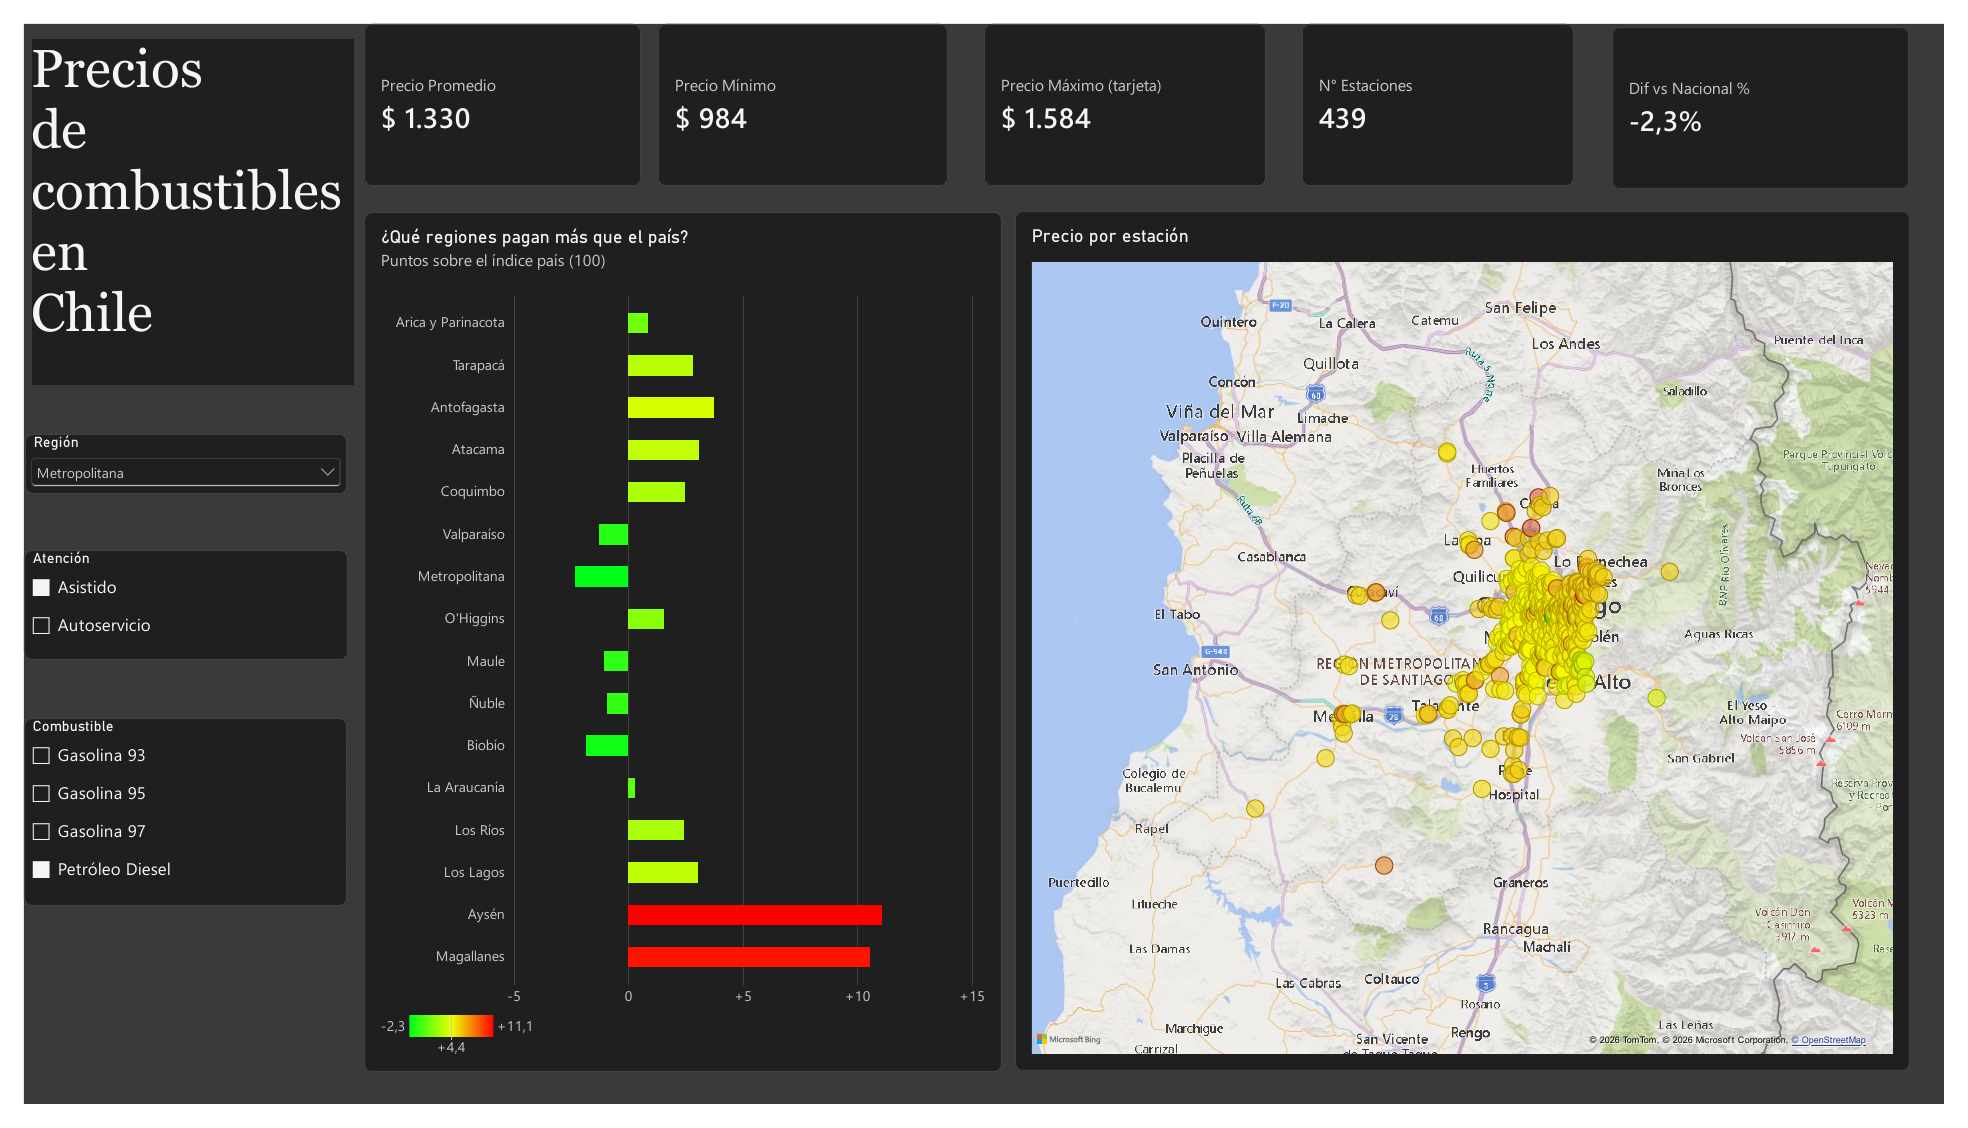

The page's visual inventory and layout, read from the dashboard file:
{"tool":"powerbi","page":{"name":"Duplicado de Página 1","canvas":[1920,1080],"ordinal":0},"visuals":[{"type":"slicer","fields":{"Values":["dim_Combustible.combustible_base"]},"box":[0,693.6,322.7,188.2],"z":0},{"type":"slicer","fields":{"Values":["dim_Comuna.region"]},"box":[1,410,322,60],"z":1000},{"type":"slicer","fields":{"Values":["dim_Combustible.tipo_atencion"]},"box":[0,526,324,110],"z":2000},{"type":"cardVisual","fields":{"Data":["_Medidas.Precio Mínimo (tarjeta)"]},"box":[634,0,290,162.5],"z":3000},{"type":"cardVisual","fields":{"Data":["_Medidas.Precio Máximo (tarjeta)"]},"box":[960,0,282.5,162.5],"z":4000},{"type":"cardVisual","fields":{"Data":["_Medidas.N° Estaciones"]},"box":[1277.5,0,272.5,162.5],"z":5000},{"type":"cardVisual","fields":{"Data":["_Medidas.Dif vs Nacional %"]},"box":[1587.5,2.5,297.5,162.5],"z":6000},{"type":"barChart","title":"¿Qué regiones pagan más que el país?","fields":{"Category":["dim_Comuna.region"],"Y":["_Medidas.Desvío vs País (pts)"]},"box":[340,188,638,860],"z":7000},{"type":"cardVisual","fields":{"Data":["_Medidas.Precio Promedio (tarjeta)"]},"box":[340,0,277.5,162.5],"z":9000},{"type":"map","title":"Precio por estación","fields":{"X":["dim_Estacion.longitud"],"Y":["dim_Estacion.latitud"]},"box":[991.1,187.1,895,860],"z":9001},{"type":"textbox","box":[8.2,15.5,322,346],"z":9002}]}

Visuals, with their boxes in screenshot pixels (x1, y1, x2, y2), scaled from the page's 1920x1080 canvas onto the 1968x1128 screenshot:
slicer - dim_Combustible.combustible_base: 0:724:331:921
slicer - dim_Comuna.region: 1:428:331:491
slicer - dim_Combustible.tipo_atencion: 0:549:332:664
cardVisual - _Medidas.Precio Mínimo (tarjeta): 650:0:947:170
cardVisual - _Medidas.Precio Máximo (tarjeta): 984:0:1274:170
cardVisual - _Medidas.N° Estaciones: 1309:0:1589:170
cardVisual - _Medidas.Dif vs Nacional %: 1627:3:1932:172
"¿Qué regiones pagan más que el país?" barChart: 348:196:1002:1095
cardVisual - _Medidas.Precio Promedio (tarjeta): 348:0:633:170
"Precio por estación" map: 1016:195:1933:1094
textbox: 8:16:338:378
